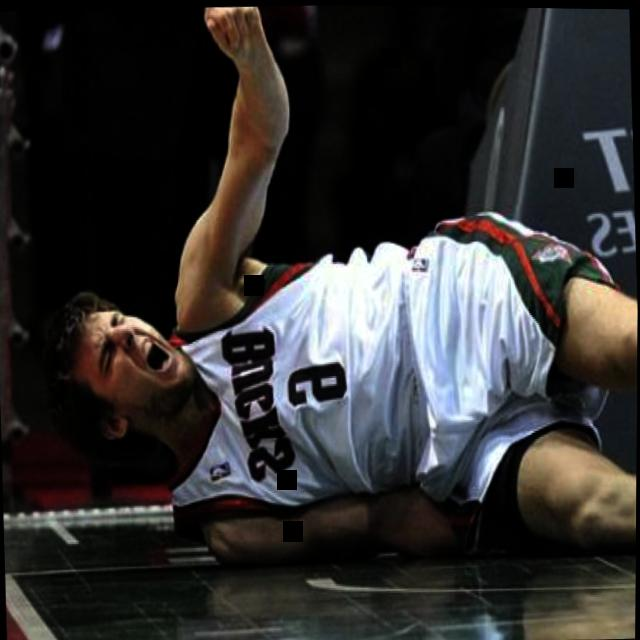Fall-Detected: (27, 0, 640, 609)
